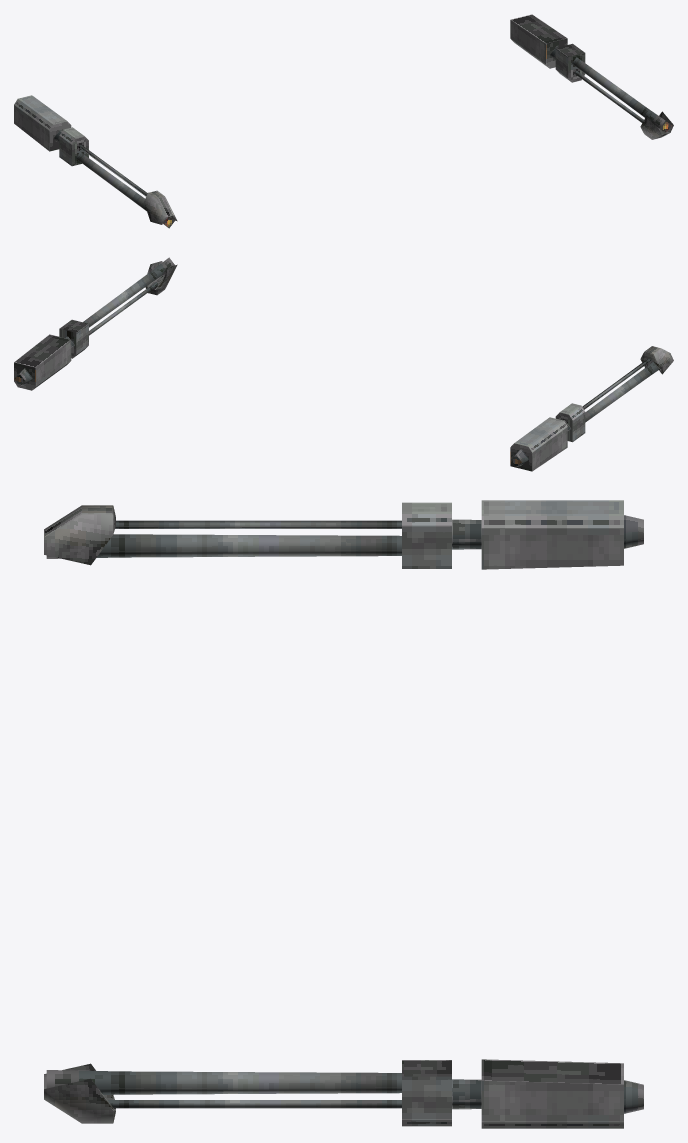
The model's file is xwing_weapon1_pos_s06_l2.fbx.
3 views of the same model, one above another, from view 1: azimuth 30°, elevation 25°; view 2: azimuth 150°, elevation 25°; view 3: azimuth 270°, elevation 25° (orthographic). The views are drawn at different scales.
Visible parts, largest first — view 1: mesh_node; view 2: mesh_node; view 3: mesh_node.
Part boxes in pixels (box(x1,y1,x2,y2)): mesh_node: box(14, 14, 673, 228); mesh_node: box(14, 257, 673, 471); mesh_node: box(44, 500, 643, 1128).
Size of the model in its own units: 12.87 by 1.55 by 6.45.
